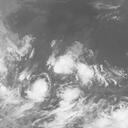cyclone: (46, 49, 96, 102)
